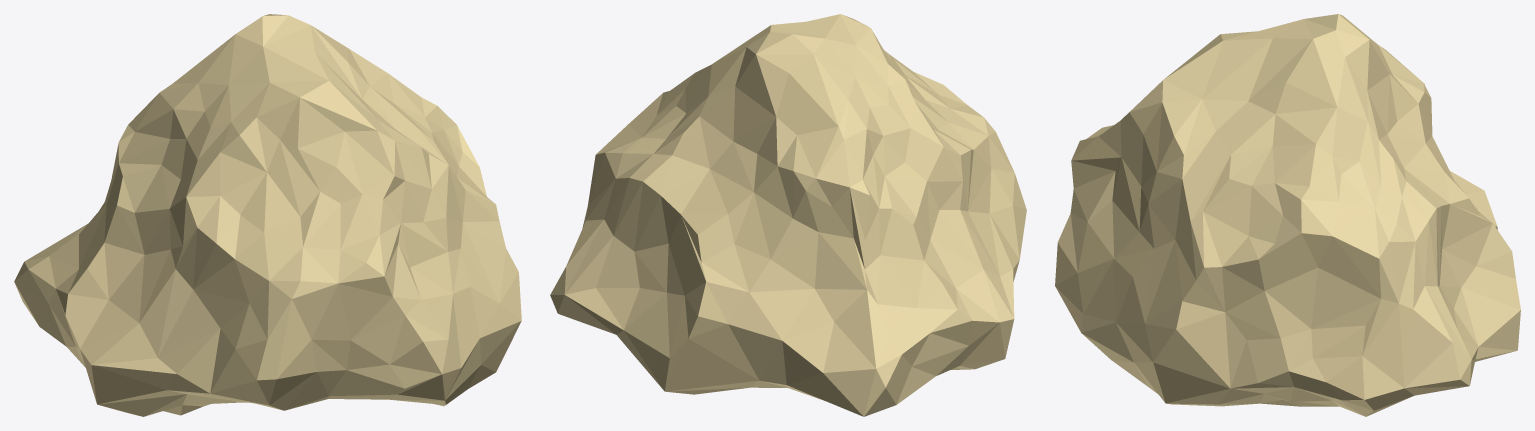
Rendered from Asteroid (14).fbx.
3 renders of one model, left to right at view 1: azimuth 30°, elevation 25°; view 2: azimuth 150°, elevation 25°; view 3: azimuth 270°, elevation 25°, orthographic. The views are drawn at different scales.
Visible parts, largest first — view 1: Asteroid119; view 2: Asteroid119; view 3: Asteroid119.
Part boxes in pixels (x1,y1,x2,y2): Asteroid119: [14, 14, 521, 416]; Asteroid119: [550, 14, 1026, 416]; Asteroid119: [1055, 14, 1520, 416].
Bounding box in the file's own units: 226 × 182 × 221.
